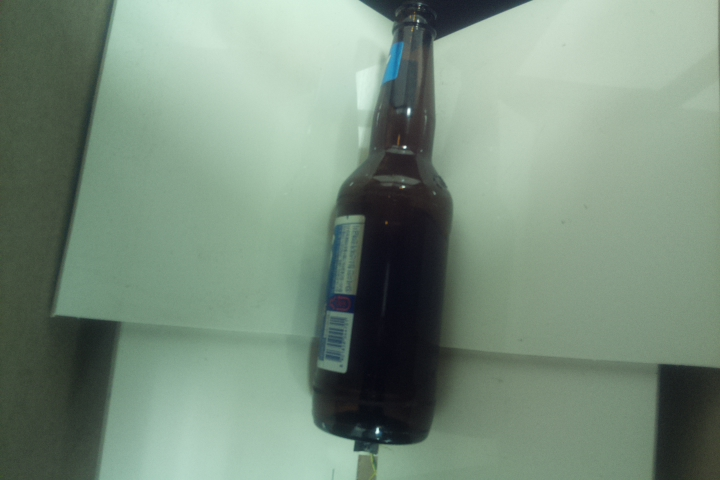makju: (310, 1, 456, 448)
